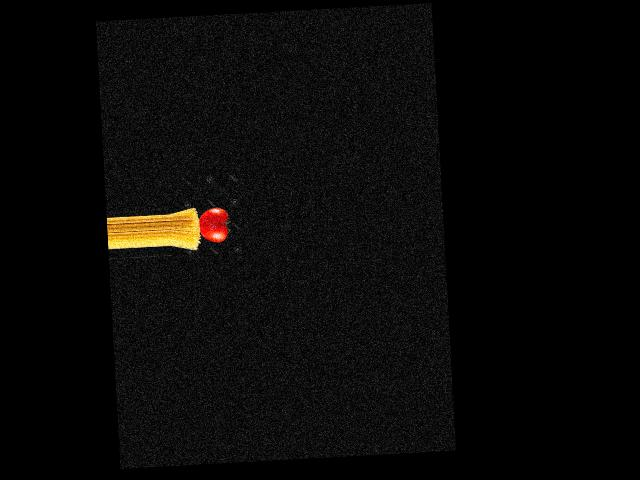tomato: (198, 207, 229, 243)
